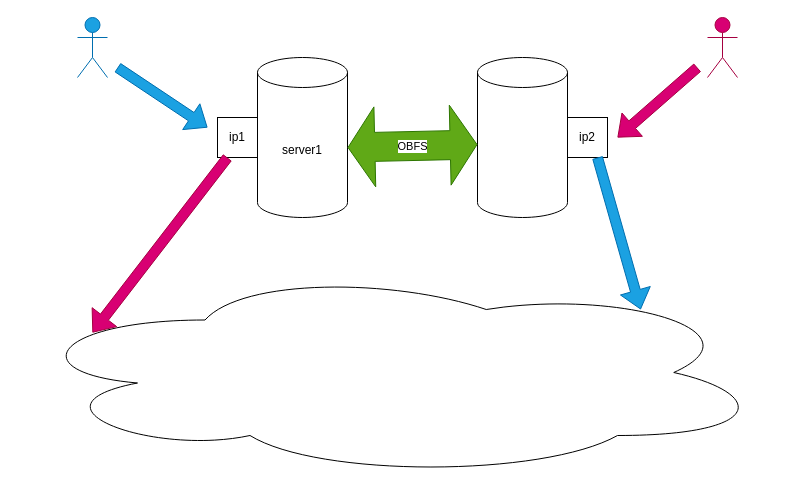
This 785x495 diagram has some shape labels left out. Here are the shapes that lost their labels. From the top down, the centre of each, then its label:
At point 522,137: "server2".
At point 392,372: "INTERNET".
